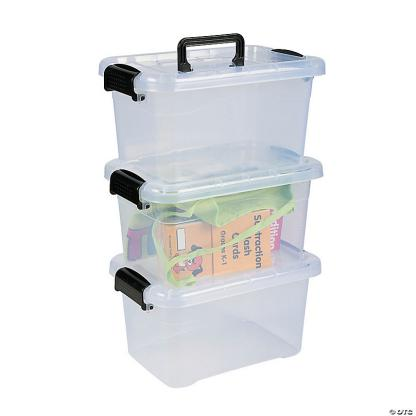plastic_box: (68, 7, 336, 195), (100, 231, 345, 392)
